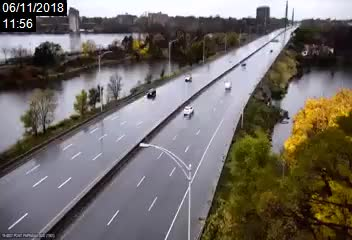personal_car: (181, 104, 196, 116), (182, 71, 195, 84), (145, 87, 159, 99), (223, 80, 233, 92)
